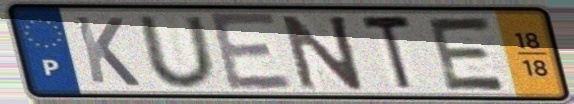E: (205, 10, 298, 94), (424, 14, 512, 93)
K: (70, 13, 144, 89)
N: (277, 13, 369, 93)
T: (357, 12, 417, 94)
U: (133, 14, 223, 91)
